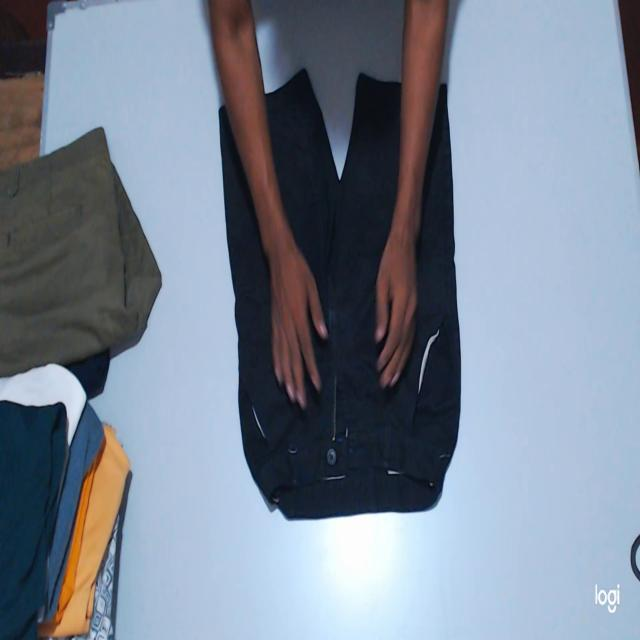new-garment: (219, 69, 460, 519)
